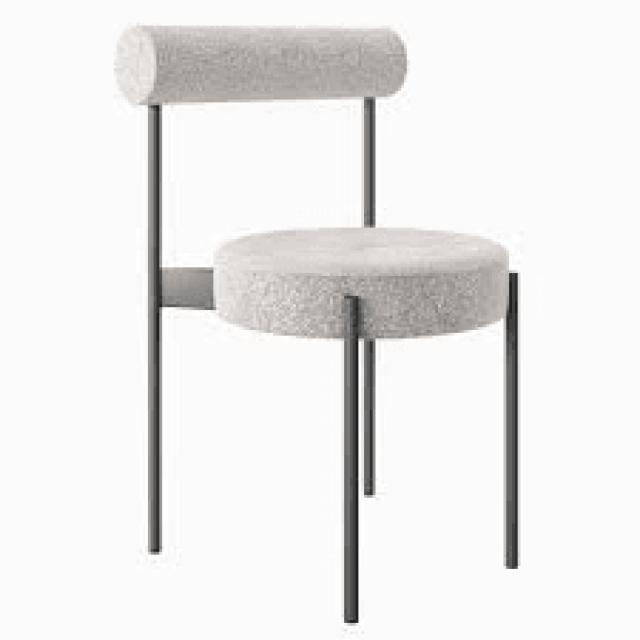chair: (109, 18, 528, 626), (118, 27, 510, 336)
